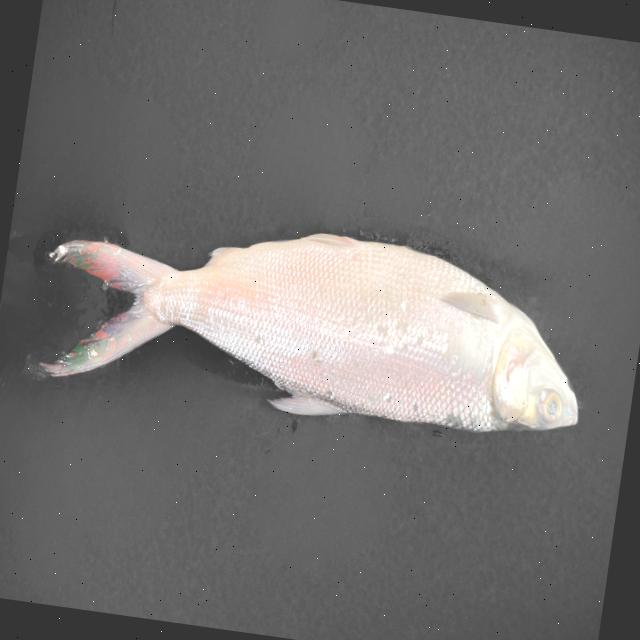900 g: (30, 194, 598, 452)
